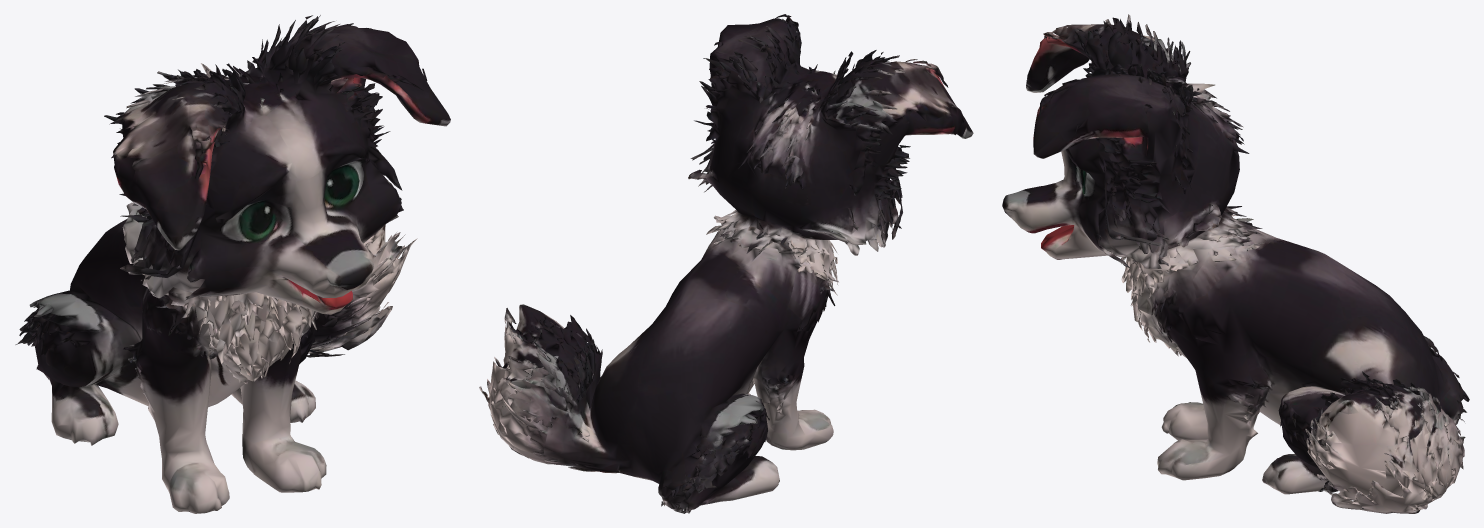
File: collie.glb
3 renders of one model, left to right at view 1: azimuth 30°, elevation 25°; view 2: azimuth 150°, elevation 25°; view 3: azimuth 270°, elevation 25°, orthographic. The views are drawn at different scales.
Parts seen in each view (by area): view 1: tripo_node_9bed054b-d810-48d4-8913-a187b61fb39d; view 2: tripo_node_9bed054b-d810-48d4-8913-a187b61fb39d; view 3: tripo_node_9bed054b-d810-48d4-8913-a187b61fb39d.
Boxes of the visible parts, x1,y1,x2,y2 form: tripo_node_9bed054b-d810-48d4-8913-a187b61fb39d: [15, 15, 450, 513]; tripo_node_9bed054b-d810-48d4-8913-a187b61fb39d: [479, 14, 973, 513]; tripo_node_9bed054b-d810-48d4-8913-a187b61fb39d: [1002, 14, 1469, 513].
Bounding box in the file's own units: 0.8895 × 0.9584 × 0.9992.
1 material, 1 textured.
